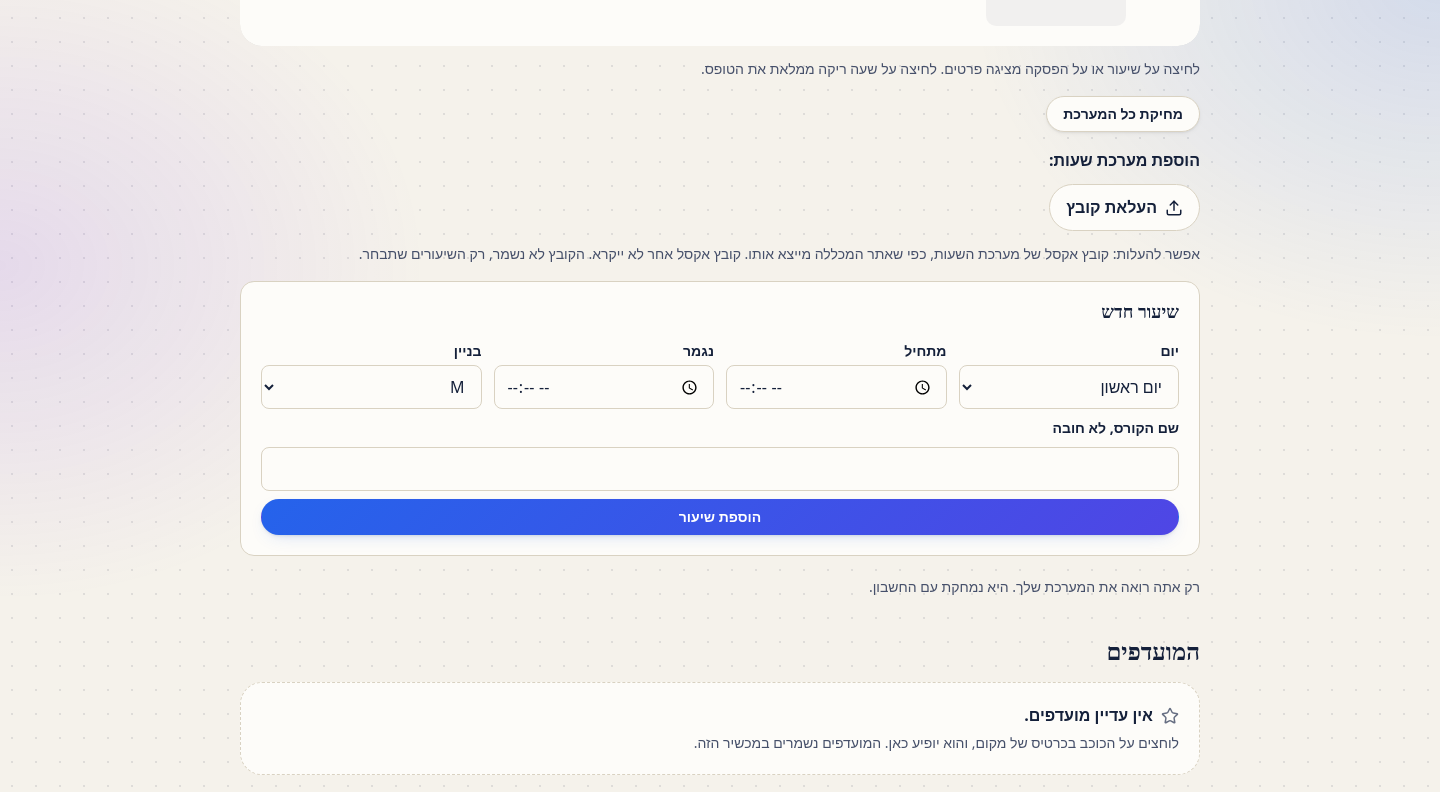
Scenario: the timetable › a class in a place not on the list is added in words, and shown so
(page scrolled)
Step 1. Type "14:00" into the time field labelled "מתחיל" → (836, 387), box [726, 365, 946, 409]
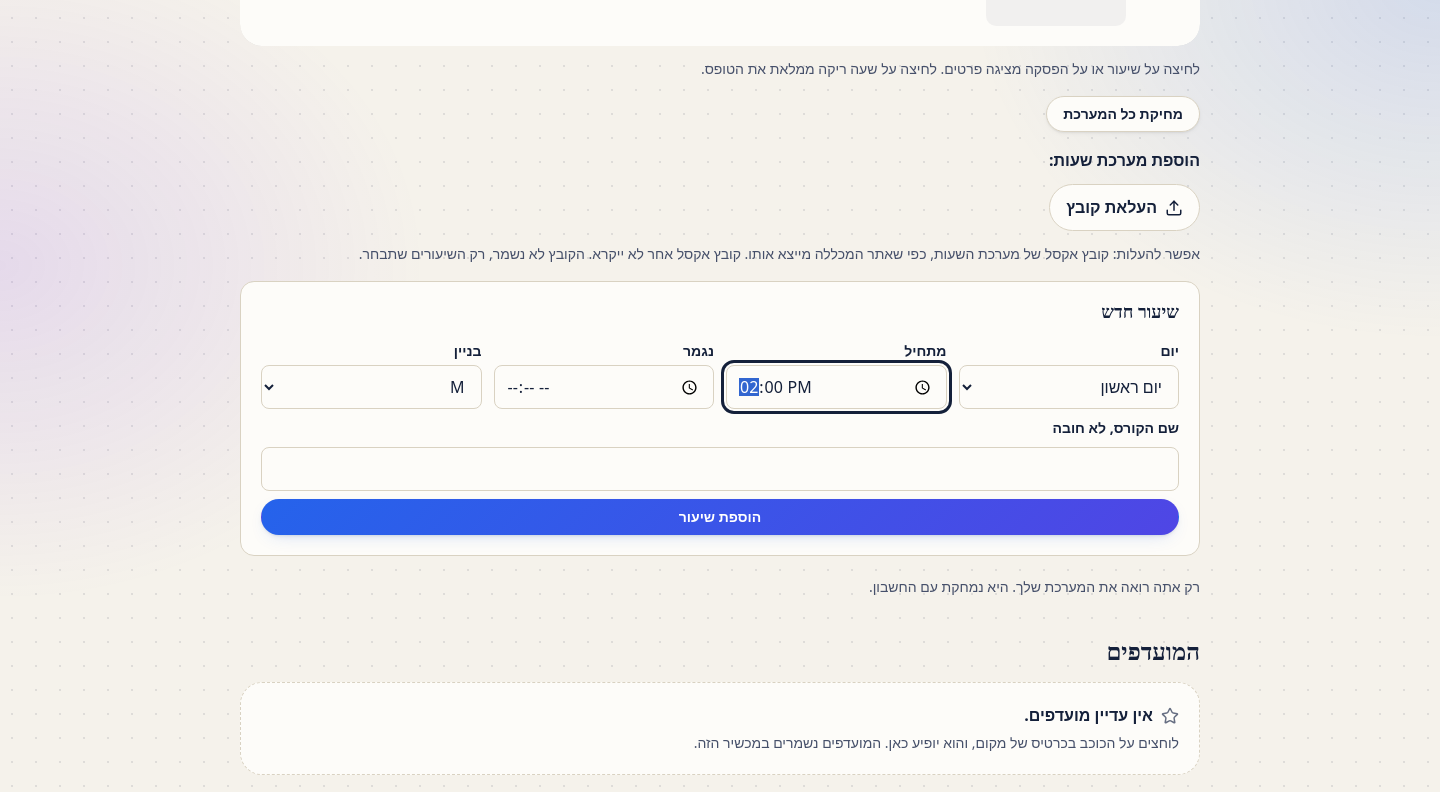
Step 2. Type "15:30" into the time field labelled "נגמר" → (604, 387), box [494, 365, 714, 409]
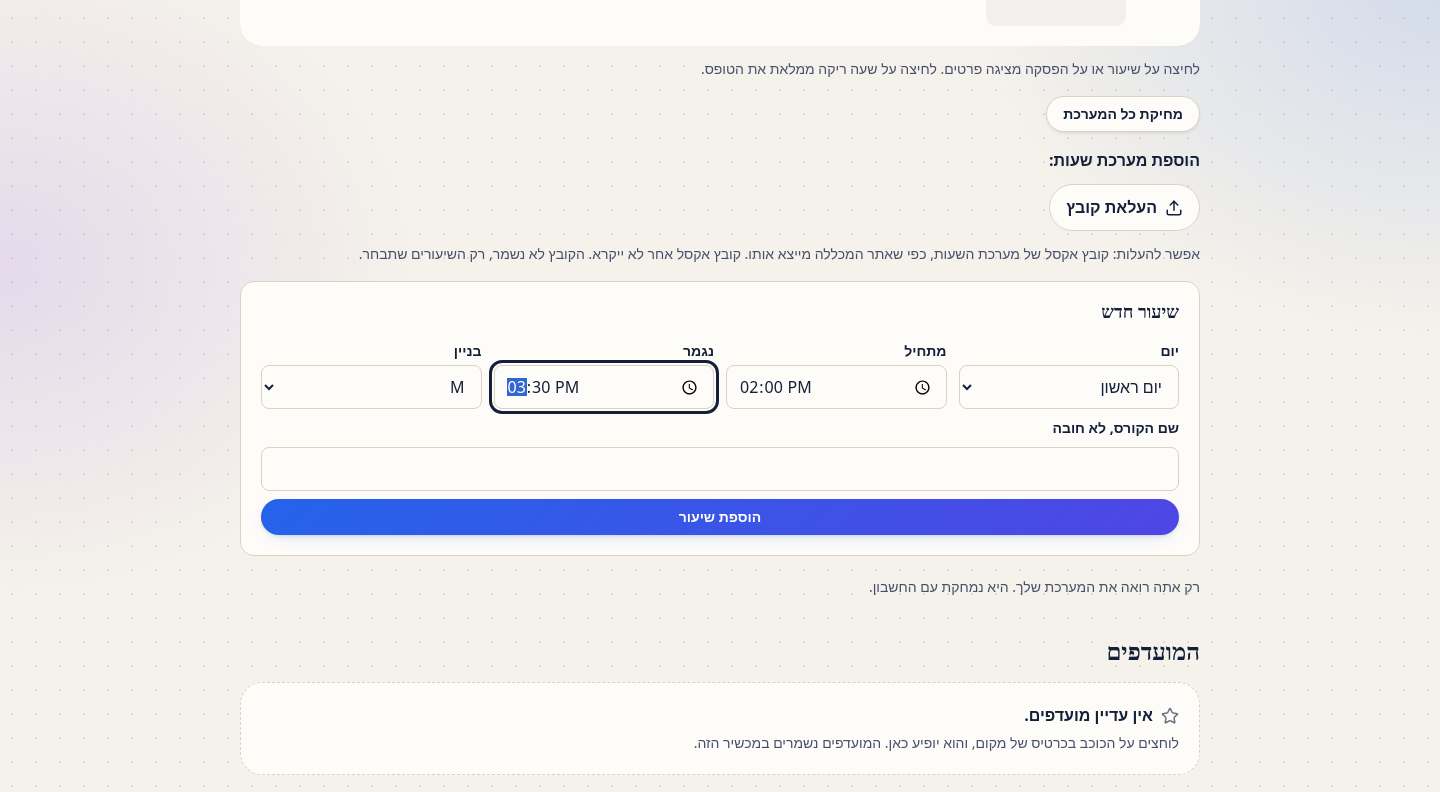
Step 3. Select "מקום שלא ברשימה" in the dropdown labelled "בניין" → (371, 387), box [261, 365, 482, 409]
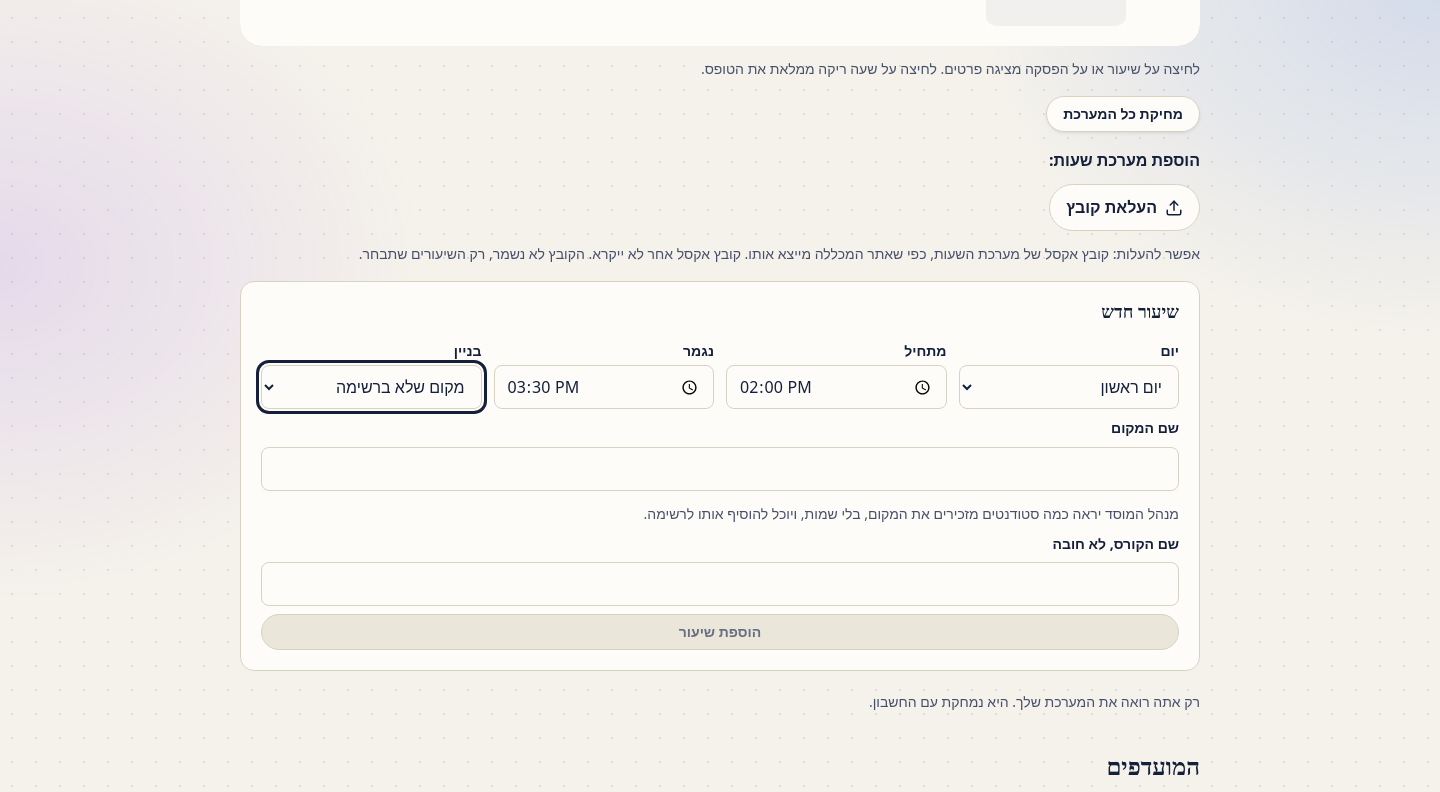
Step 4. Type "אולם ספורט" into the field labelled "שם המקום" → (720, 469), box [261, 447, 1179, 491]
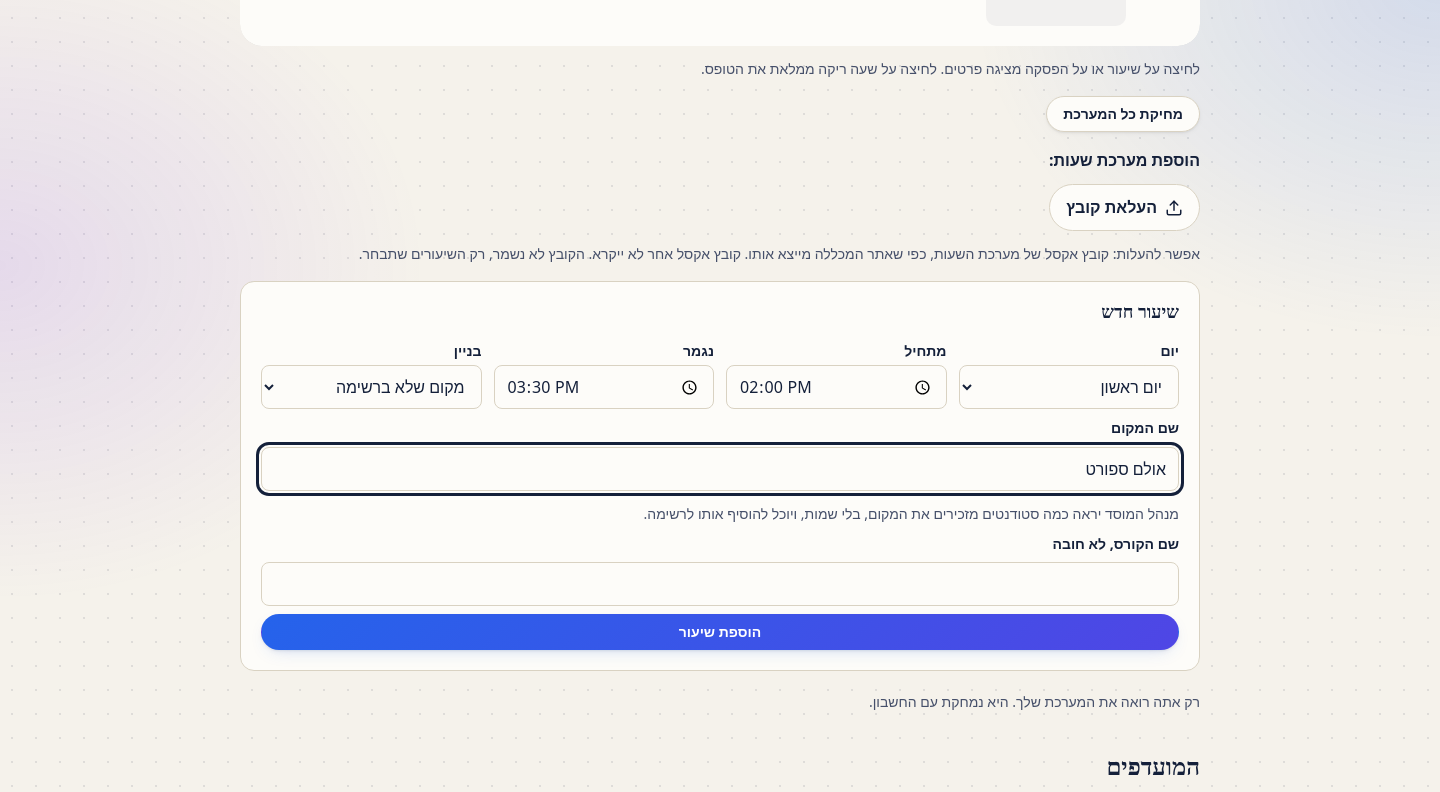
Step 5. Click the button "הוספת שיעור" → (720, 632), box [261, 614, 1179, 650]
(page scrolled)
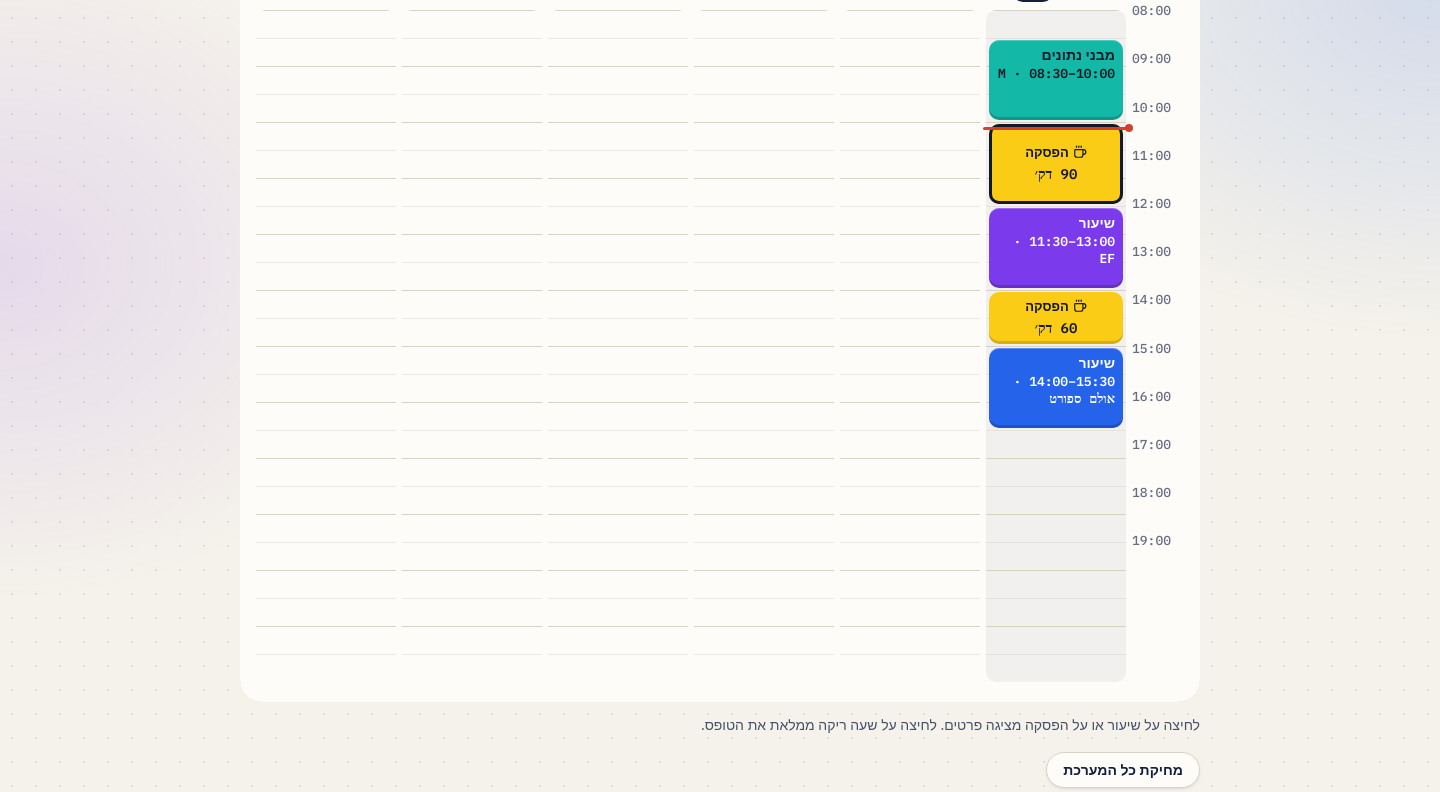
Step 6. Click the button with aria-label "שיעור, יום ראשון 14:00 עד 15:30, אולם ספורט" → (1056, 388), box [989, 348, 1123, 428]
(page scrolled)
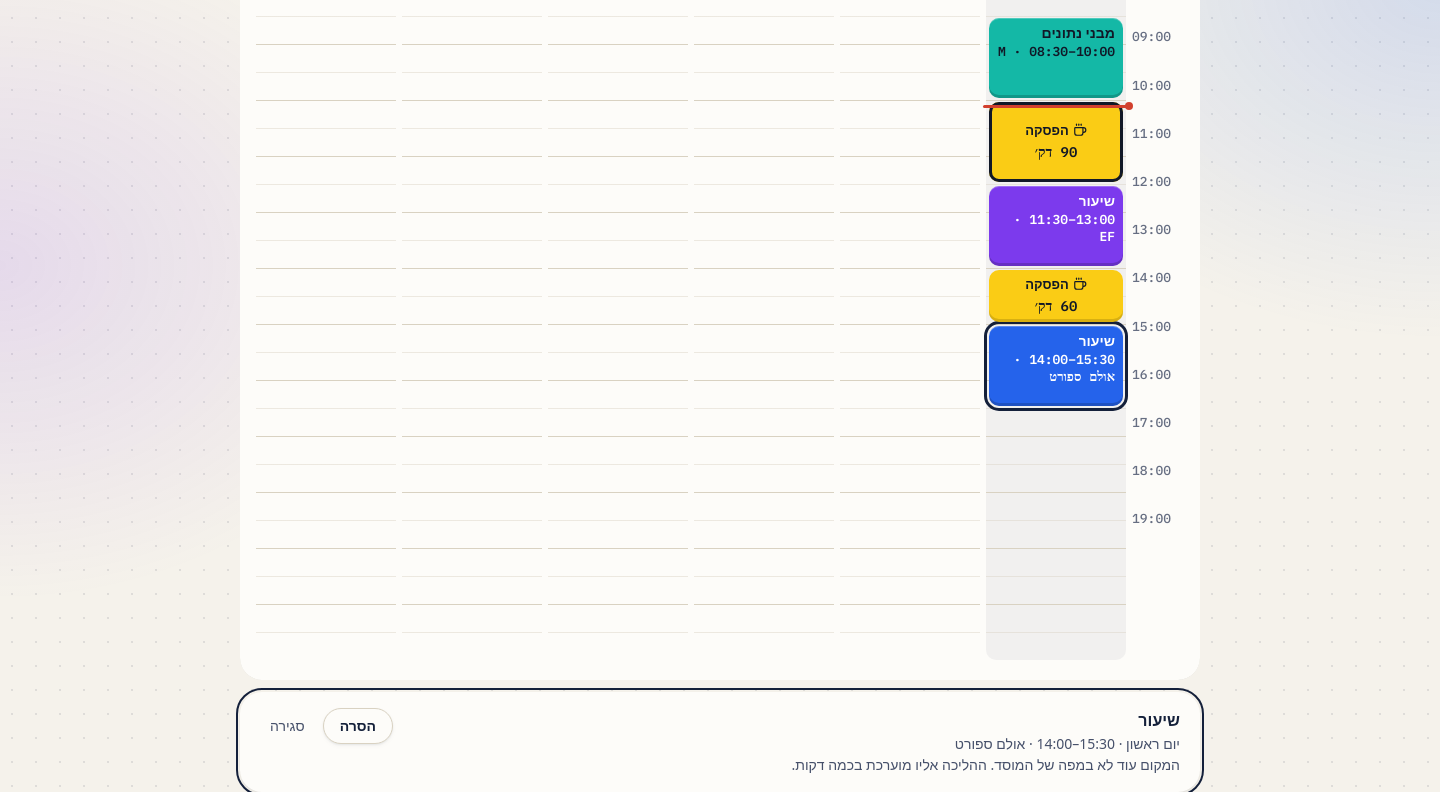
Now the text "המקום עוד לא במפה של המוסד. ההליכה אליו מוערכת בכמה דקות." is shown, box [792, 754, 1180, 776]
